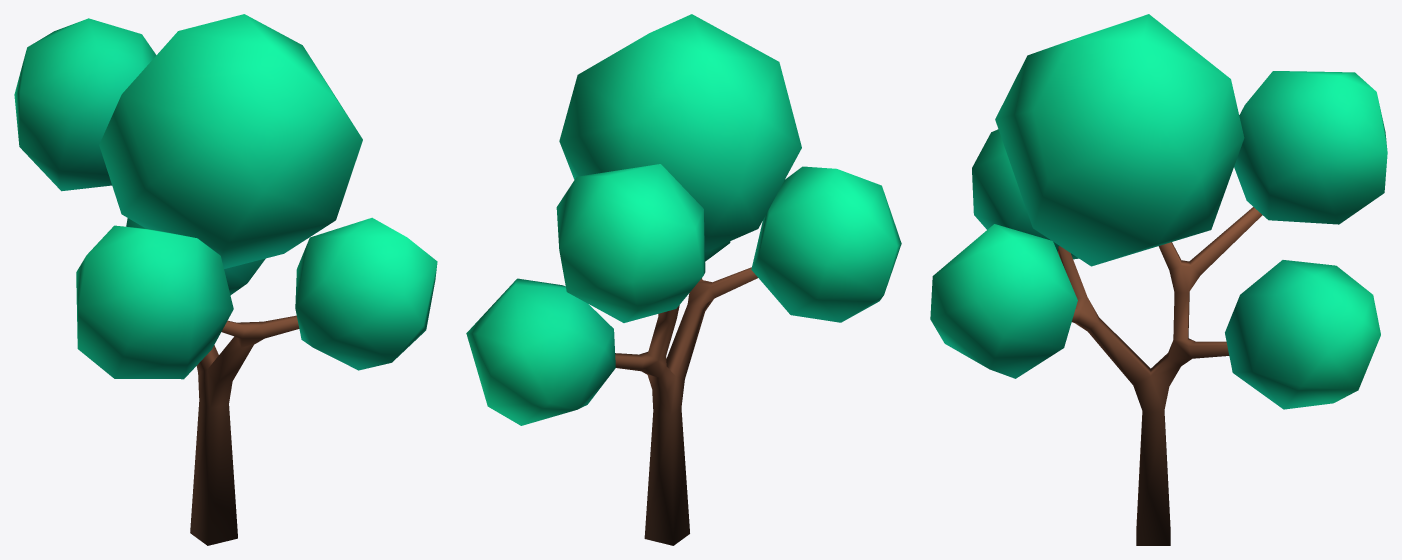
File: VEG0210036.fbx
3 views of the same model, side by side, from view 1: azimuth 30°, elevation 25°; view 2: azimuth 150°, elevation 25°; view 3: azimuth 270°, elevation 25° (orthographic). The views are drawn at different scales.
Parts seen in each view (by area): view 1: smVEG0210036; view 2: smVEG0210036; view 3: smVEG0210036.
Part boxes in pixels (x1=…): smVEG0210036: x1=14, y1=14, x2=437, y2=545; smVEG0210036: x1=466, y1=14, x2=901, y2=545; smVEG0210036: x1=930, y1=14, x2=1387, y2=545.
Bounding box in the file's own units: 371 × 552 × 448.
1 material, 1 textured.
